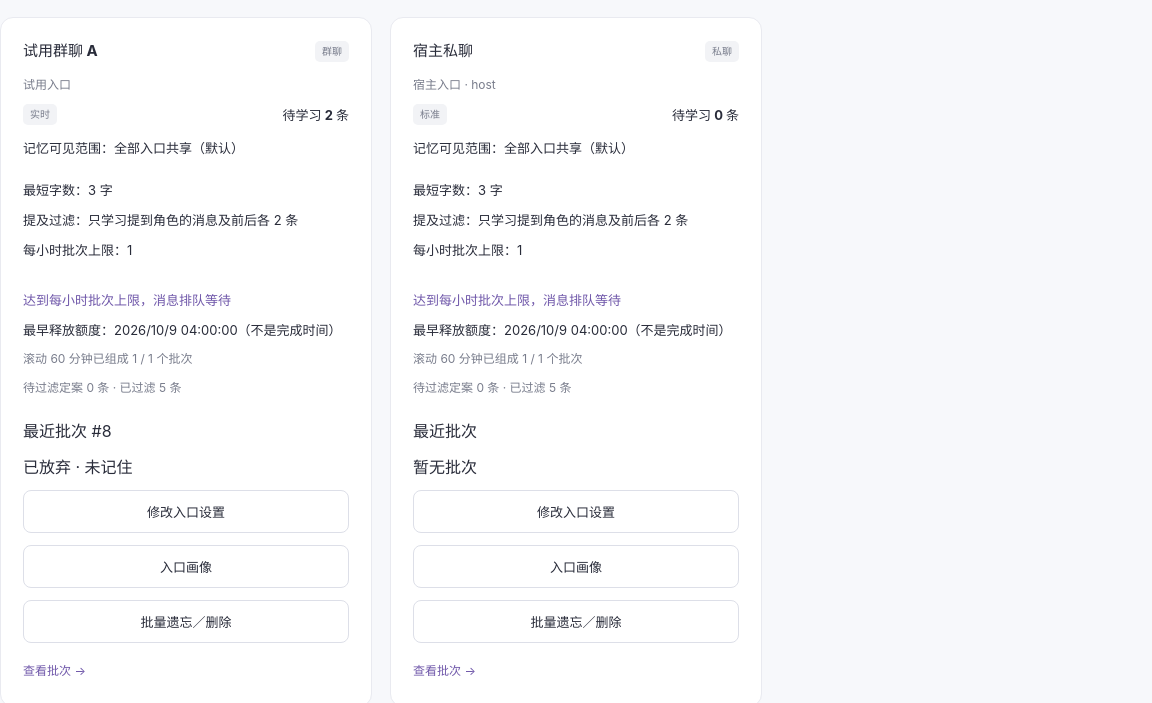
Test: relearn conflict is visible and does not pretend the gap disappeared
(page scrolled)
What coordinates should you click on to do the following:
click the button "查看批次 →" below "已放弃 · 未记住"
I would click on:
 (54, 670)
Its box is [23,655,86,684].
(page scrolled)
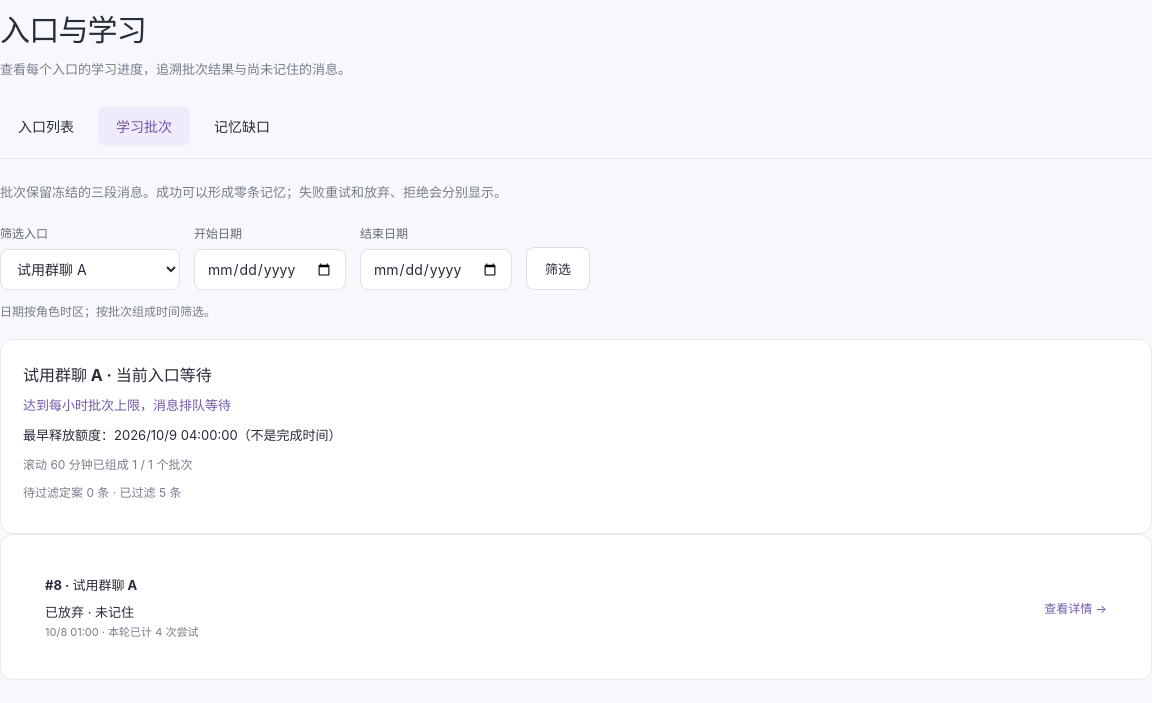
What coordinates should you click on to do the following:
click the button with aria-label "查看批次 #8"
I would click on:
 (1076, 607)
Its box is [1044,593,1107,622].
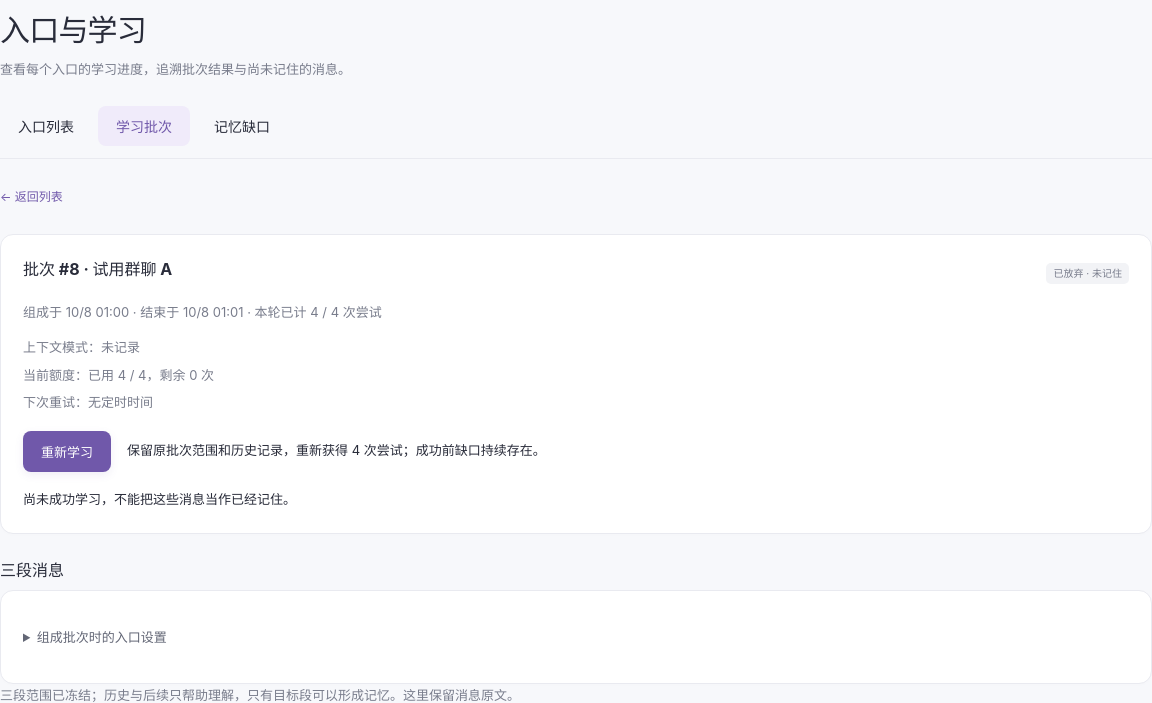
What coordinates should you click on to do the following:
click the button "重新学习"
I would click on:
 (67, 451)
Its box is [23,431,111,472].
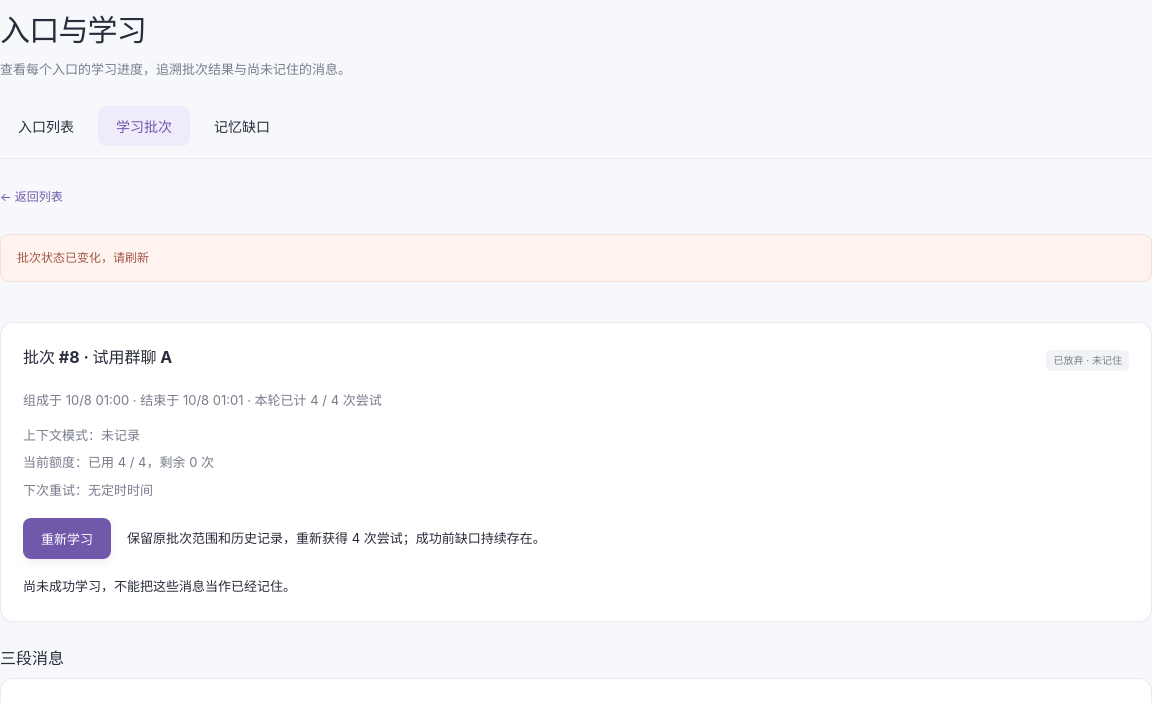
Check: the text "批次状态已变化，请刷新" is shown, box [0,234,1151,282]
